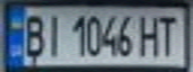0: (84, 11, 103, 57)
1: (66, 11, 87, 57)
4: (100, 11, 121, 57)
6: (115, 11, 139, 57)
B: (18, 10, 48, 58)
H: (136, 11, 163, 57)
I: (42, 10, 66, 58)
T: (154, 11, 181, 57)
